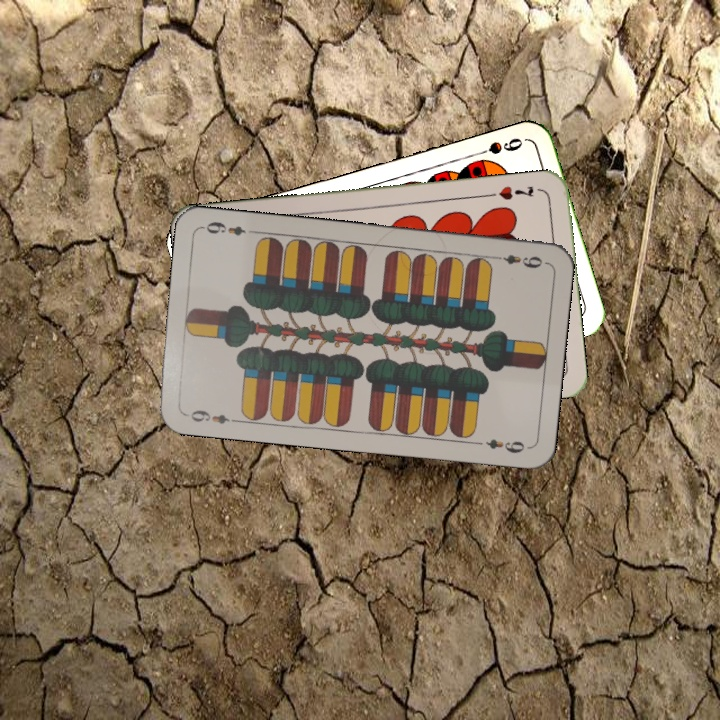E9: (181, 405, 240, 427), (489, 251, 545, 271)
H7: (484, 182, 537, 203)
S9: (468, 133, 526, 159)
